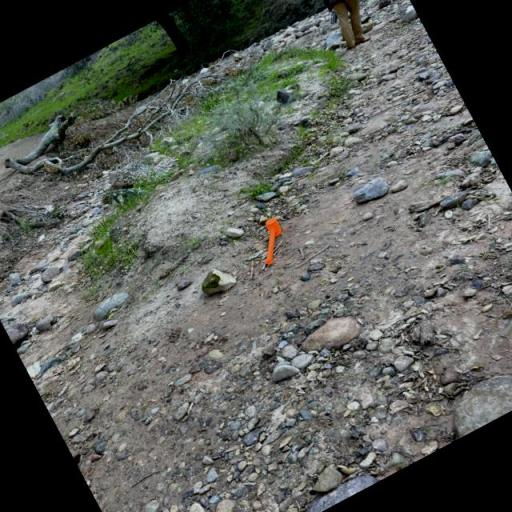mallet: (248, 216, 294, 266)
